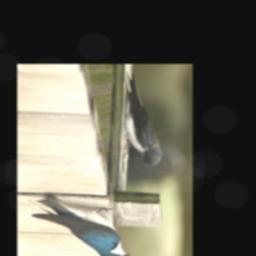Swallow: (31, 196, 130, 256)
